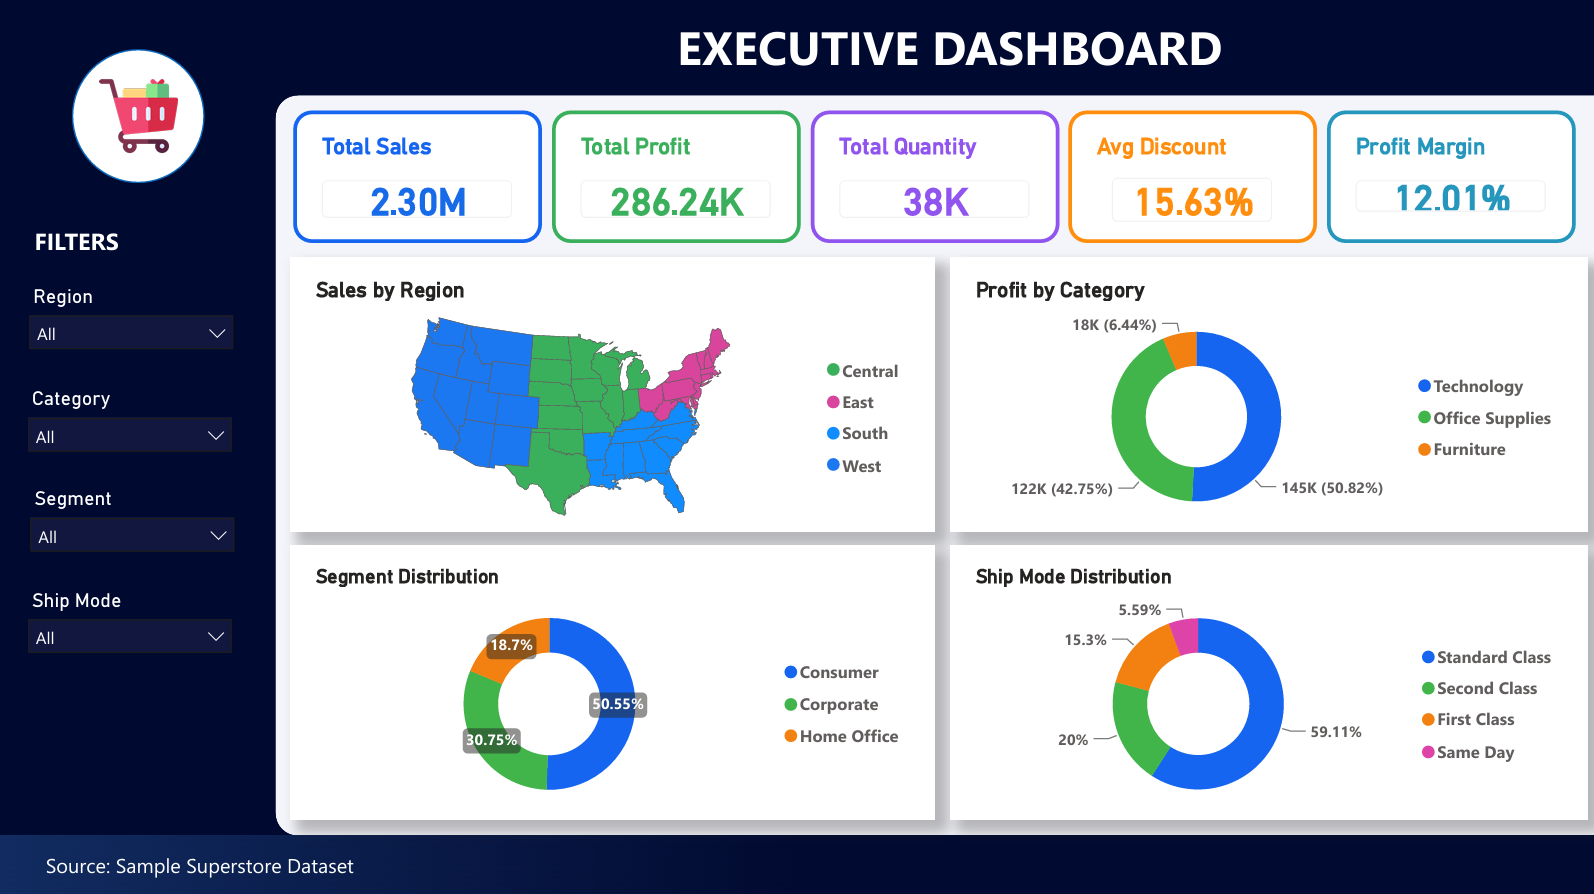

What the dashboard file says about the page in this screenshot:
{"tool":"powerbi","page":{"name":"Executive Dashboard","canvas":[1280,720],"ordinal":0},"visuals":[{"type":"shape","box":[222.5,77.5,1057.5,592.5],"z":0},{"type":"textbox","box":[243.8,9,1036.2,63.8],"z":1000},{"type":"image","box":[0,670,1280,50],"z":2000},{"type":"textbox","box":[33.8,670,530,50],"z":3000},{"type":"shape","box":[60,41.2,106.2,106.2],"z":4000},{"type":"image","box":[60,62.5,106.2,63.8],"z":5000},{"type":"shapeMap","title":"Sales by Region","fields":{"Series":["Cleaned_Superstore.Region"],"Category":["Cleaned_Superstore.State"],"Value":["Sum(Cleaned_Superstore.Sales)"]},"box":[235,207.5,516.2,220],"z":6000},{"type":"donutChart","title":"Profit by Category","fields":{"Category":["Cleaned_Superstore.Category"],"Y":["Sum(Cleaned_Superstore.Profit)"]},"box":[762.5,207.5,510,220],"z":7000},{"type":"donutChart","title":"Segment Distribution","fields":{"Category":["Cleaned_Superstore.Segment"],"Y":["Sum(Cleaned_Superstore.Sales)"]},"box":[235,437.5,516.2,220],"z":8000},{"type":"donutChart","title":"Ship Mode Distribution","fields":{"Category":["Cleaned_Superstore.Ship_Mode"],"Y":["Sum(Cleaned_Superstore.Sales)"]},"box":[762.5,437.5,510,220],"z":9000},{"type":"cardVisual","title":"Total Sales","fields":{"Data":["Sum(Cleaned_Superstore.Sales)"]},"box":[237.1,90,198.6,105.7],"z":10000},{"type":"cardVisual","title":"Profit Margin","fields":{"Data":["Avg(Cleaned_Superstore.Profit_Margin)"]},"box":[1064.3,90,198.6,105.7],"z":11000},{"type":"cardVisual","title":"Total Profit","fields":{"Data":["Sum(Cleaned_Superstore.Profit)"]},"box":[444.3,90,198.6,105.7],"z":12000},{"type":"cardVisual","title":"Avg Discount","fields":{"Data":["Avg(Cleaned_Superstore.Discount)"]},"box":[857.1,90,198.6,105.7],"z":13000},{"type":"cardVisual","title":"Total Quantity","fields":{"Data":["Sum(Cleaned_Superstore.Quantity)"]},"box":[651.4,90,198.6,105.7],"z":14000},{"type":"textbox","box":[25,176.7,164,46.5],"z":15000},{"type":"slicer","fields":{"Values":["Cleaned_Superstore.Region"]},"box":[16.3,224.4,182.6,81.4],"z":16000},{"type":"slicer","fields":{"Values":["Cleaned_Superstore.Category"]},"box":[15.1,305.8,182.6,81.4],"z":17000},{"type":"slicer","fields":{"Values":["Cleaned_Superstore.Segment"]},"box":[17.4,386,182.6,81.4],"z":18000},{"type":"slicer","fields":{"Values":["Cleaned_Superstore.Ship_Mode"]},"box":[15.1,467.4,182.6,81.4],"z":19000}]}

Visuals, with their boxes in screenshot pixels (x1, y1, x2, y2), scaled from the page's 1280x720 canvas onto the 1594x894 screenshot:
shape: detection(277, 96, 1593, 832)
textbox: detection(304, 11, 1593, 90)
image: detection(0, 832, 1593, 893)
textbox: detection(42, 832, 702, 893)
shape: detection(75, 51, 207, 183)
image: detection(75, 78, 207, 157)
"Sales by Region" shapeMap: detection(293, 258, 935, 531)
"Profit by Category" donutChart: detection(950, 258, 1585, 531)
"Segment Distribution" donutChart: detection(293, 543, 935, 816)
"Ship Mode Distribution" donutChart: detection(950, 543, 1585, 816)
"Total Sales" cardVisual: detection(295, 112, 543, 243)
"Profit Margin" cardVisual: detection(1325, 112, 1573, 243)
"Total Profit" cardVisual: detection(553, 112, 801, 243)
"Avg Discount" cardVisual: detection(1067, 112, 1315, 243)
"Total Quantity" cardVisual: detection(811, 112, 1059, 243)
textbox: detection(31, 219, 235, 277)
slicer - Cleaned_Superstore.Region: detection(20, 279, 248, 380)
slicer - Cleaned_Superstore.Category: detection(19, 380, 246, 481)
slicer - Cleaned_Superstore.Segment: detection(22, 479, 249, 580)
slicer - Cleaned_Superstore.Ship_Mode: detection(19, 580, 246, 681)
